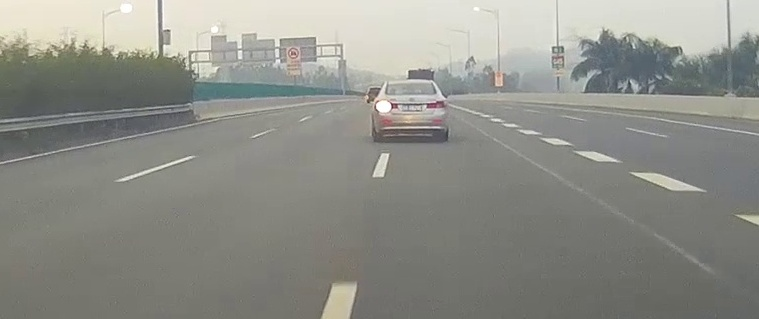L_light: (376, 102, 398, 110)
R_light: (426, 101, 446, 109)
T_light: (405, 83, 416, 85)
day-left: (372, 80, 449, 142)
